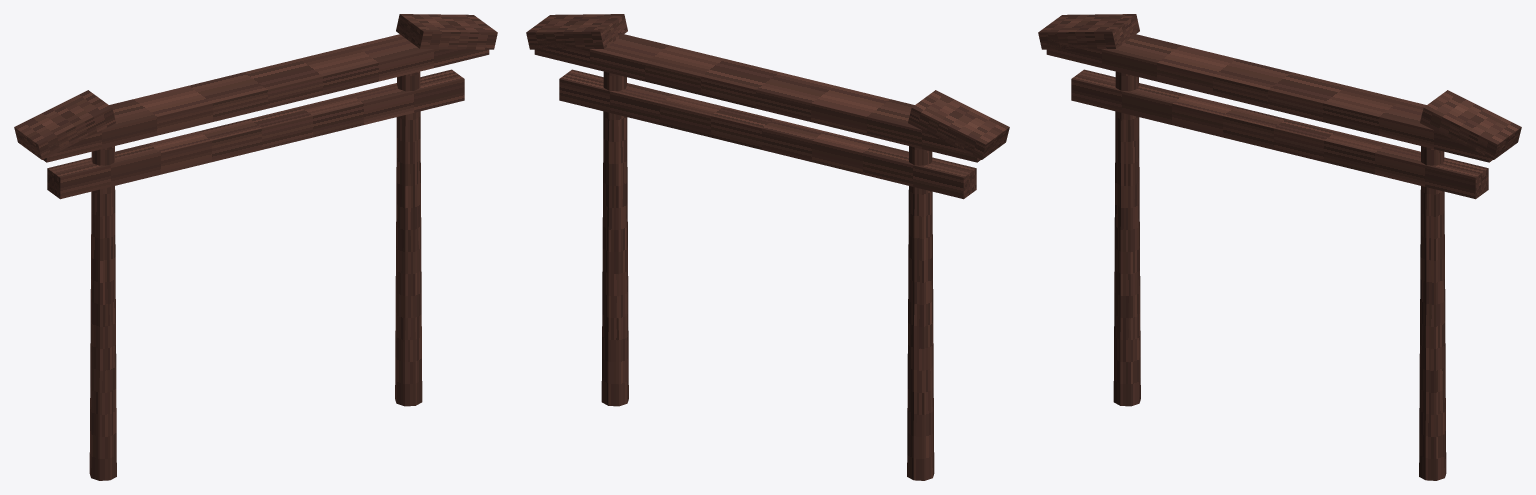
Rendered from gate_61.glb.
3 views of the same model, side by side, from view 1: azimuth 30°, elevation 25°; view 2: azimuth 150°, elevation 25°; view 3: azimuth 330°, elevation 25° (orthographic).
Parts seen in each view (by area): view 1: Roof, Lintel, Pillar.001, Pillar, RaisedEave, RaisedEave.001; view 2: Roof, Lintel, Pillar.001, Pillar, RaisedEave, RaisedEave.001; view 3: Roof, Lintel, Pillar, Pillar.001, RaisedEave.001, RaisedEave.
Boxes of the visible parts, box(x1,y1,x2,y2) form: Roof: box(43, 34, 489, 162); Lintel: box(47, 69, 464, 199); Pillar.001: box(395, 71, 422, 406); Pillar: box(89, 146, 116, 480); RaisedEave: box(14, 90, 115, 159); RaisedEave.001: box(396, 14, 497, 49); Roof: box(534, 34, 980, 162); Lintel: box(559, 69, 976, 199); Pillar.001: box(601, 71, 628, 406); Pillar: box(907, 146, 934, 480); RaisedEave: box(908, 90, 1009, 159); RaisedEave.001: box(526, 14, 627, 49); Roof: box(1046, 34, 1492, 162); Lintel: box(1071, 69, 1488, 199); Pillar: box(1113, 71, 1140, 406); Pillar.001: box(1419, 146, 1446, 480); RaisedEave.001: box(1420, 90, 1521, 159); RaisedEave: box(1038, 14, 1139, 49).
Bounding box in the file's own units: 7.16 × 5.61 × 0.65.
Materials: 1 (1 with a texture image).
